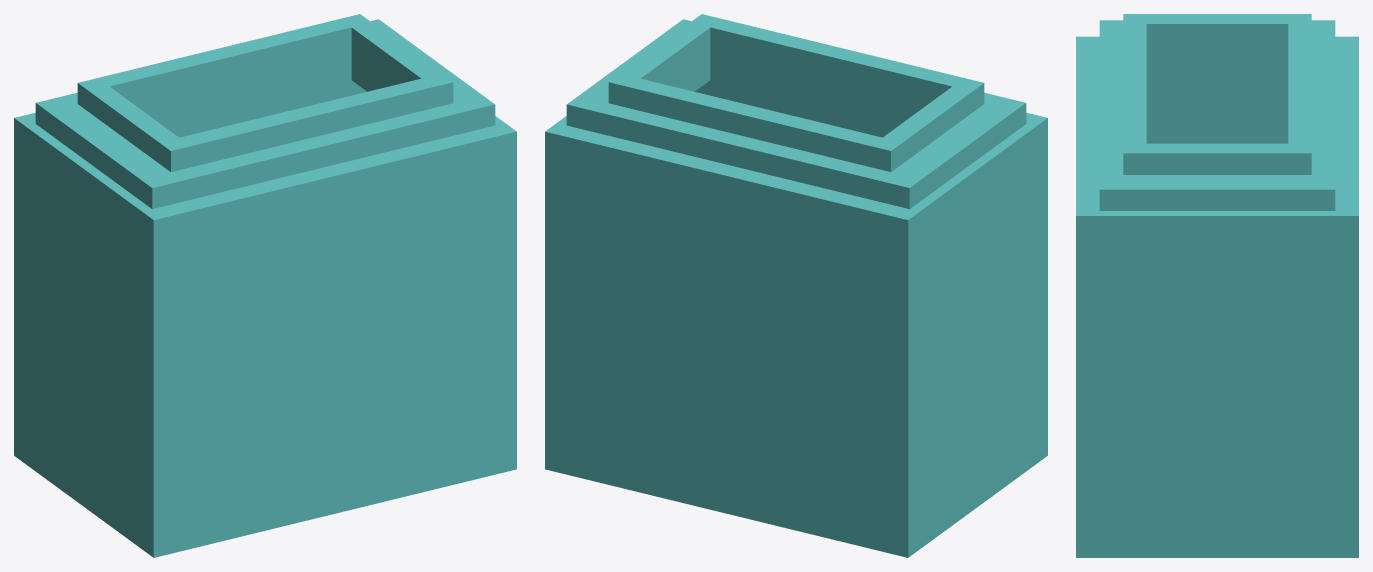
The model's file is humanoid-53.obj.
3 renders of one model, left to right at view 1: azimuth 30°, elevation 25°; view 2: azimuth 150°, elevation 25°; view 3: azimuth 270°, elevation 25°, orthographic.
Visible parts, largest first — view 1: humanoid-53; view 2: humanoid-53; view 3: humanoid-53.
Boxes of the visible parts, x1=… form: humanoid-53: x1=14, y1=14, x2=516, y2=557; humanoid-53: x1=545, y1=14, x2=1047, y2=557; humanoid-53: x1=1076, y1=14, x2=1358, y2=557.
Bounding box in the file's own units: 36 × 36 × 24.
1 material, 1 textured.
